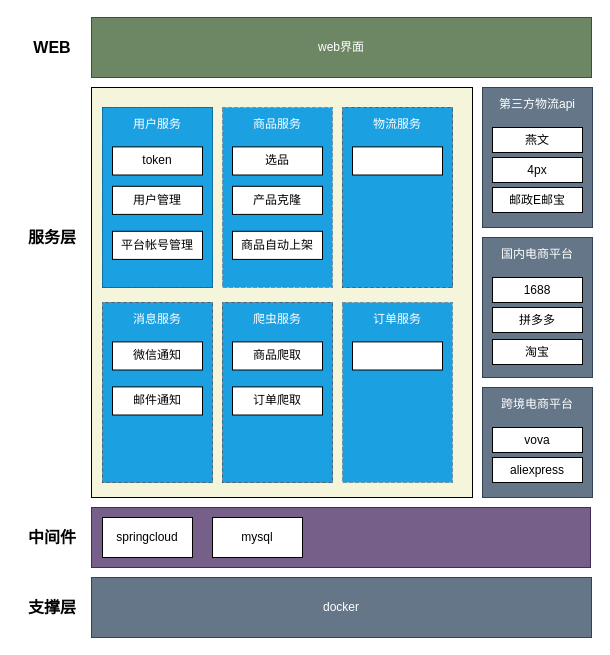
Some shapes in this 610 by 655 pixel diagram are drawn without their labels. Here are the shapes that lost their labels. From the top down, the centre of each, then its label:
(x=397, y=160): 多物流接入
(x=397, y=355): 新订单实时通知
